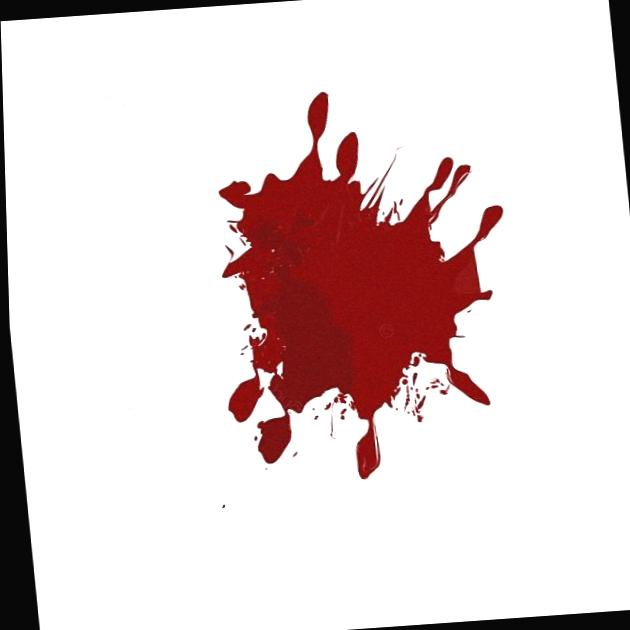Fire: (217, 92, 502, 480)
